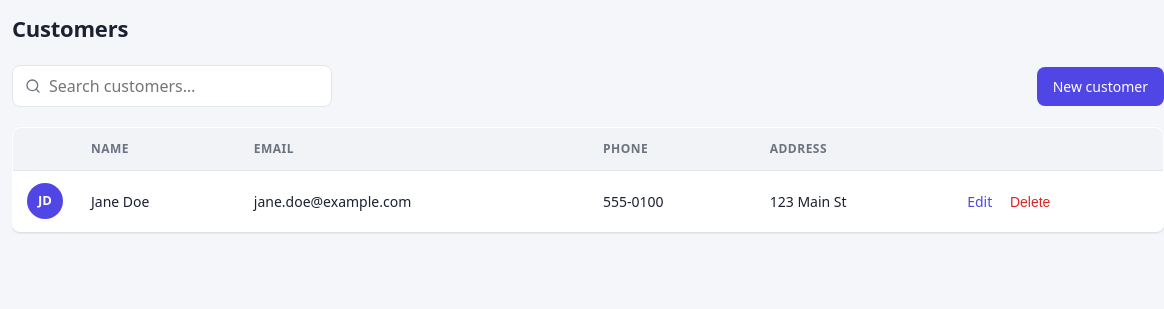
Test: CustomersPage › shows an alert when deletion is blocked because the customer is referenced by orders
Check: the text "Jane Doe" is shown, box x1=77 y1=170 x2=240 y2=232
Click the button "Delete".
click(1030, 202)  # box x1=1010 y1=194 x2=1050 y2=210
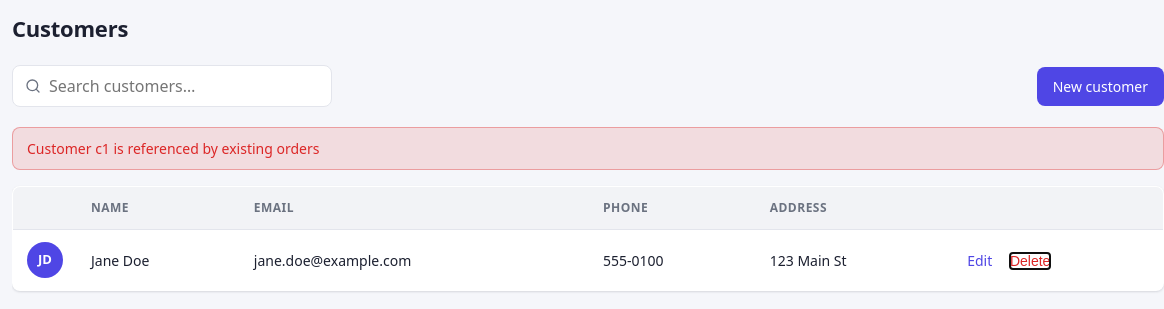
Check: the text "Jane Doe" is shown, box x1=77 y1=230 x2=240 y2=290
Check: the message reads "Customer c1 is referenced by existing orders", box x1=27 y1=139 x2=320 y2=158
